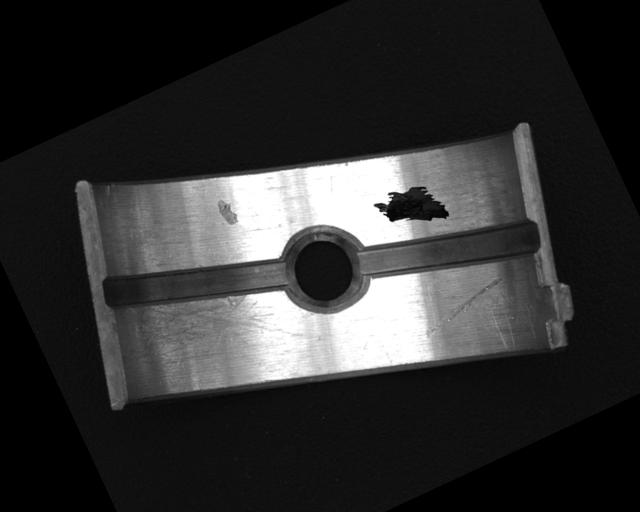blot: (370, 172, 451, 246)
bruise: (214, 195, 241, 228)
gap: (97, 206, 296, 361), (350, 177, 546, 322)
hole: (266, 215, 377, 325)
nick: (416, 274, 513, 339)
scratch: (113, 249, 302, 405)
